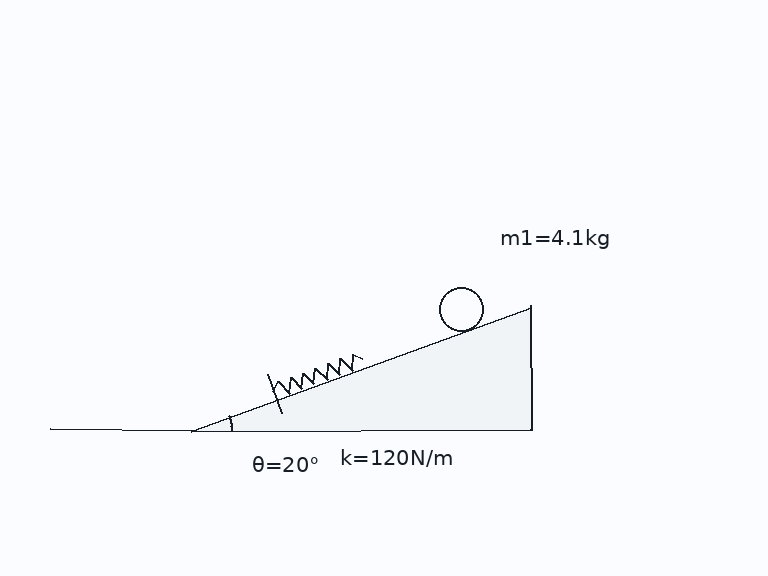ball: (437, 285, 485, 333)
ramp: (190, 305, 533, 432)
spring: (272, 352, 364, 395)
